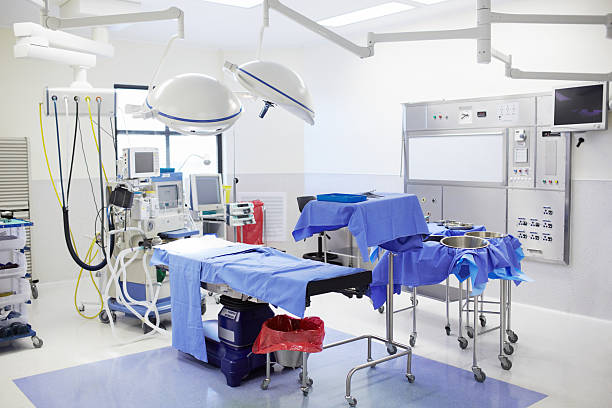bedside_monitor: (550, 86, 612, 132), (188, 175, 226, 211), (135, 152, 160, 176), (155, 187, 180, 210)
breathing_tube: (103, 227, 160, 343)
chair: (296, 198, 338, 264)
operating_bed: (149, 234, 374, 387)
overbed_table: (300, 192, 417, 408)
surgical_light: (222, 57, 315, 127), (141, 71, 238, 137)
syringe_pump: (223, 214, 259, 227), (222, 202, 259, 214)
ventilator: (97, 216, 183, 337)
waste_bin: (380, 218, 520, 383), (249, 316, 326, 397)
